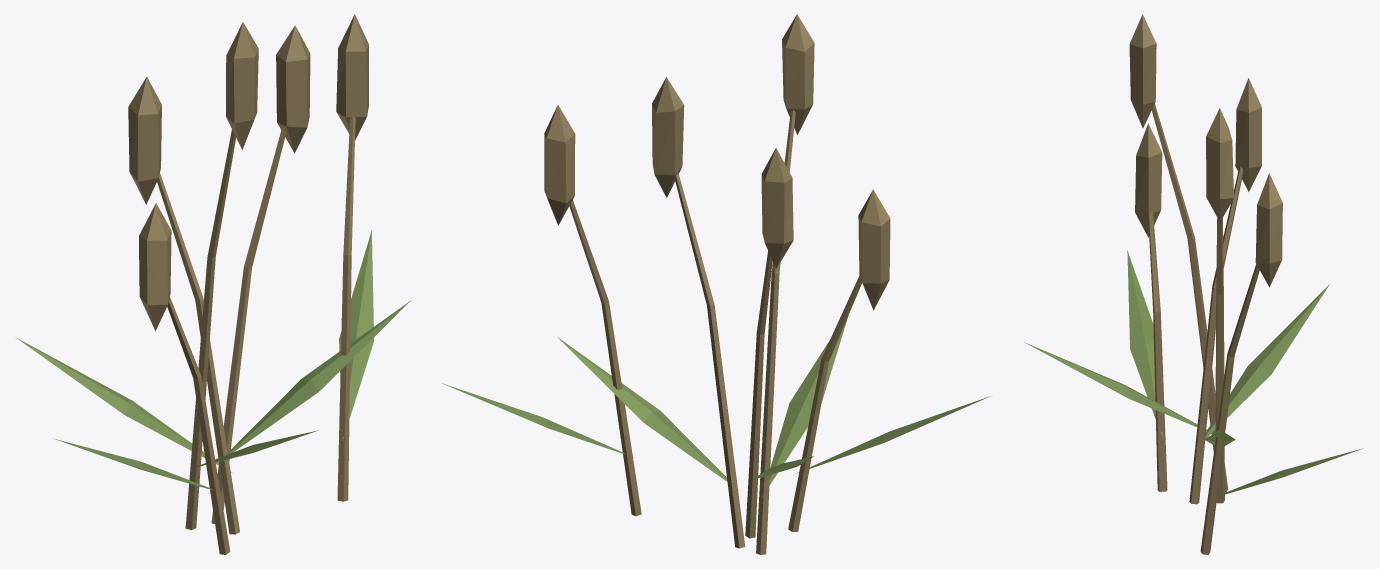
File: Plant_Common_DryReedTuft_001_LOD1.glb
The picture shows the model from 3 angles, left to right: view 1: azimuth 30°, elevation 25°; view 2: azimuth 150°, elevation 25°; view 3: azimuth 270°, elevation 25°; orthographic projection. The views are drawn at different scales.
Visible parts, largest first — view 1: Plant_Common_DryReedTuft_001_LOD1; view 2: Plant_Common_DryReedTuft_001_LOD1; view 3: Plant_Common_DryReedTuft_001_LOD1.
Boxes of the visible parts, <box> form: Plant_Common_DryReedTuft_001_LOD1: <box>15,14,411,554</box>; Plant_Common_DryReedTuft_001_LOD1: <box>442,14,990,554</box>; Plant_Common_DryReedTuft_001_LOD1: <box>1024,14,1362,554</box>.
Size of the model in its own units: 1.62 by 1.84 by 1.19.
